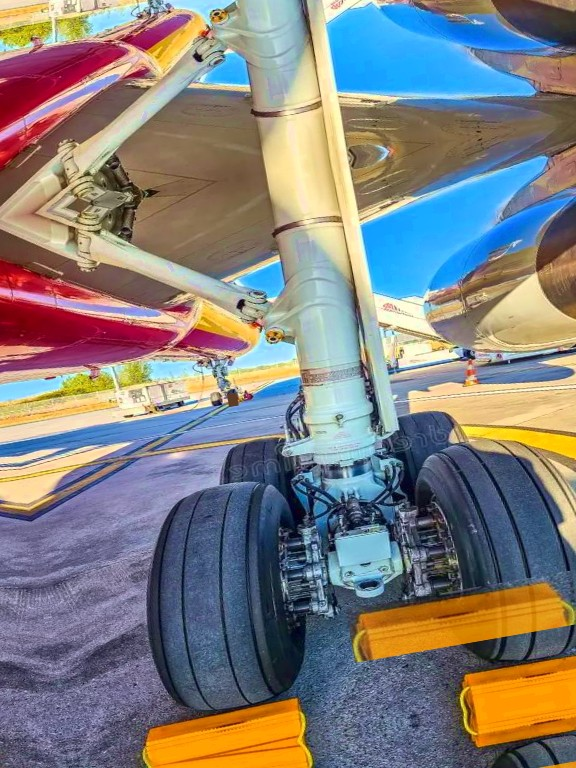chock: (346, 571, 576, 663), (133, 694, 308, 768), (454, 641, 576, 712), (462, 683, 576, 755), (141, 740, 316, 768), (228, 398, 242, 406)
wheel: (126, 474, 324, 719), (406, 423, 576, 673), (212, 432, 307, 533), (386, 404, 473, 496), (210, 390, 224, 406), (226, 388, 240, 401)
